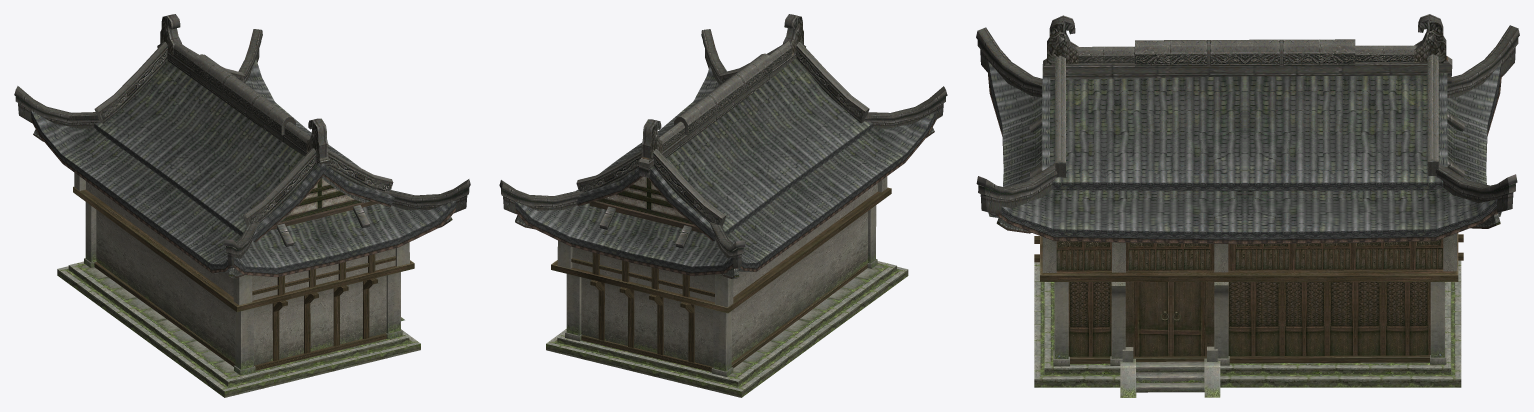
The model's file is wlf_fangzi02_w.FBX.
3 renders of one model, left to right at view 1: azimuth 30°, elevation 25°; view 2: azimuth 150°, elevation 25°; view 3: azimuth 270°, elevation 25°, orthographic. The views are drawn at different scales.
Visible parts, largest first — view 1: wlf_fangzi02_w; view 2: wlf_fangzi02_w; view 3: wlf_fangzi02_w.
Part boxes in pixels (x1=…): wlf_fangzi02_w: x1=14, y1=14, x2=470, y2=397; wlf_fangzi02_w: x1=499, y1=14, x2=947, y2=397; wlf_fangzi02_w: x1=976, y1=14, x2=1519, y2=397.
Bounding box in the file's own units: 87.19 × 81.4 × 129.
